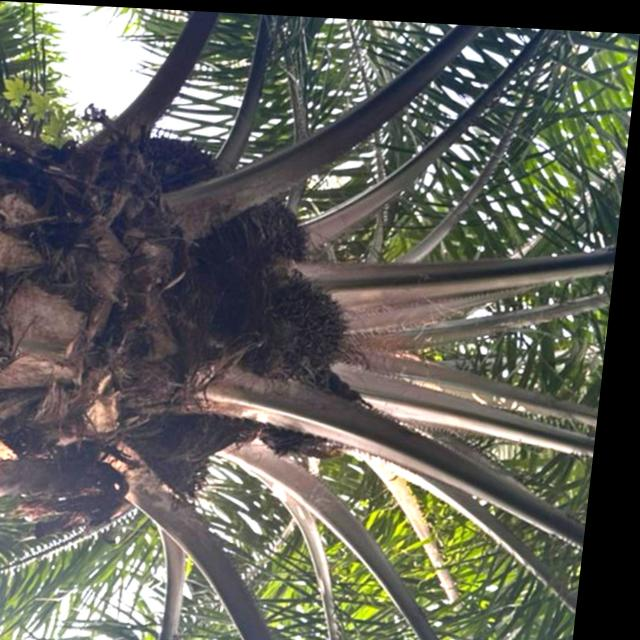unripe: (234, 264, 369, 391), (208, 181, 324, 280)
